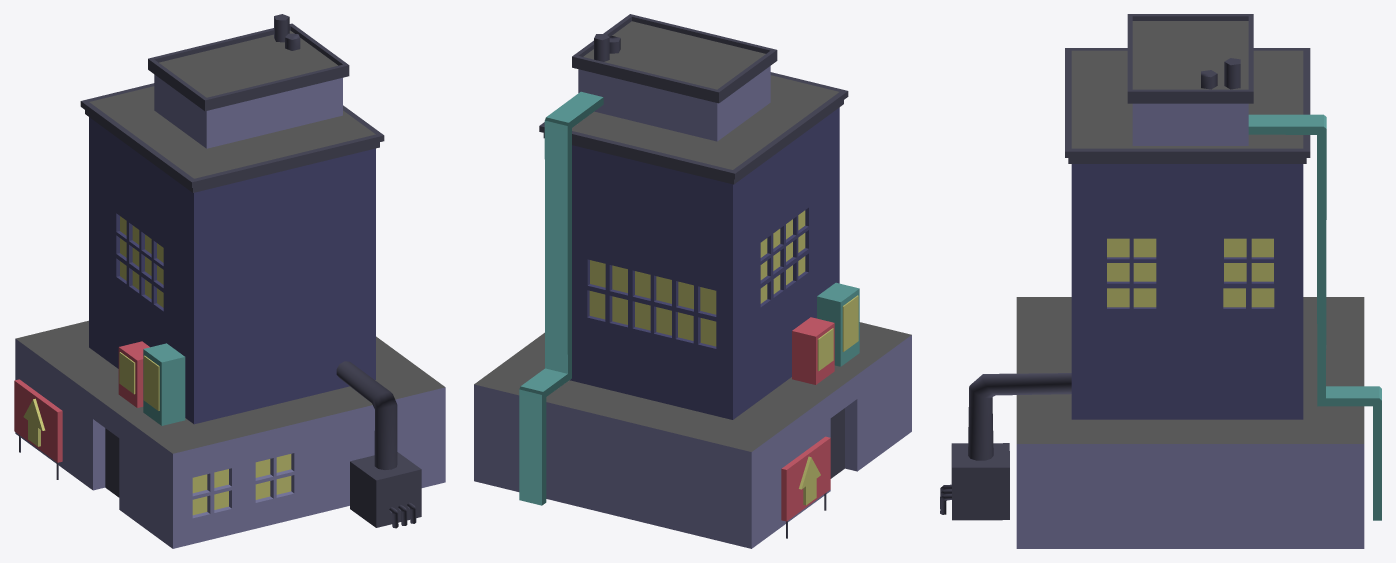
Rendered from SM_House_1_3.fbx.
The picture shows the model from 3 angles, left to right: view 1: azimuth 30°, elevation 25°; view 2: azimuth 150°, elevation 25°; view 3: azimuth 270°, elevation 25°; orthographic projection. The views are drawn at different scales.
Visible parts, largest first — view 1: SM_House_1_3; view 2: SM_House_1_3; view 3: SM_House_1_3.
Boxes of the visible parts, x1,y1,x2,y2 form: SM_House_1_3: [14, 14, 445, 548]; SM_House_1_3: [474, 14, 911, 548]; SM_House_1_3: [940, 14, 1381, 548].
Size of the model in its own units: 6.45 by 8.61 by 7.63.
